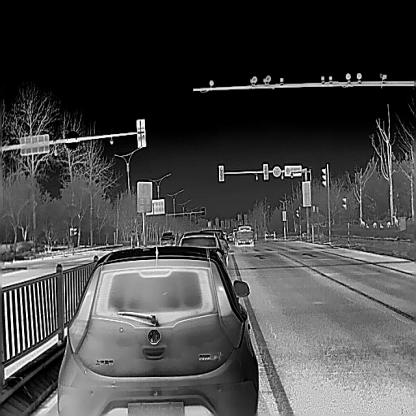car: (57, 246, 258, 415), (176, 230, 228, 270), (209, 228, 225, 247), (158, 230, 174, 244)
truck: (233, 225, 254, 244)
